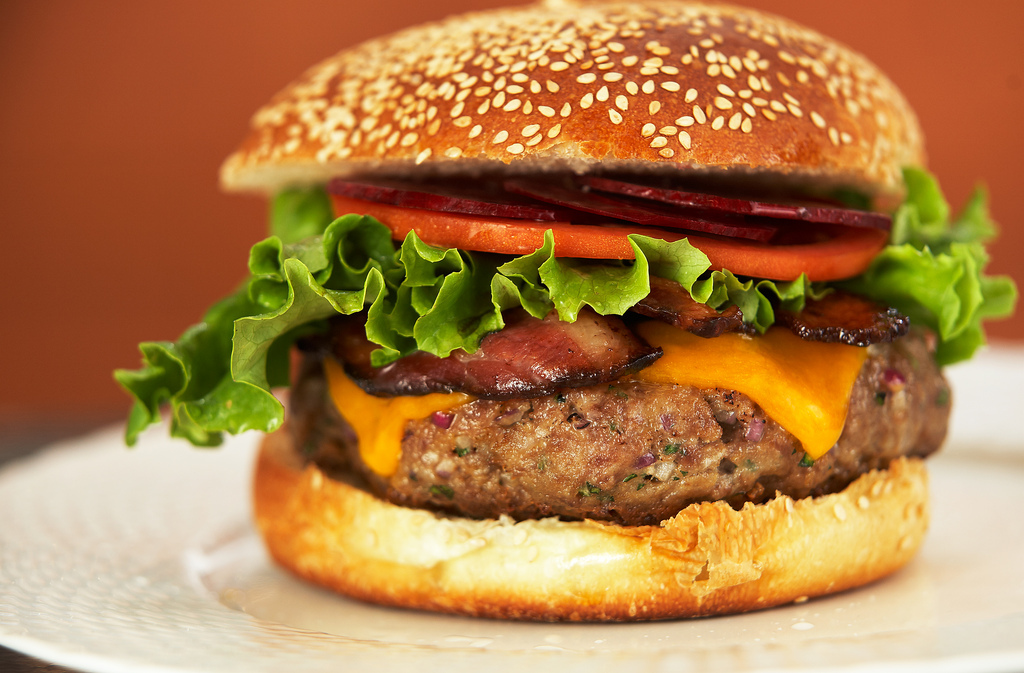Hamburger: (115, 0, 1018, 620)
